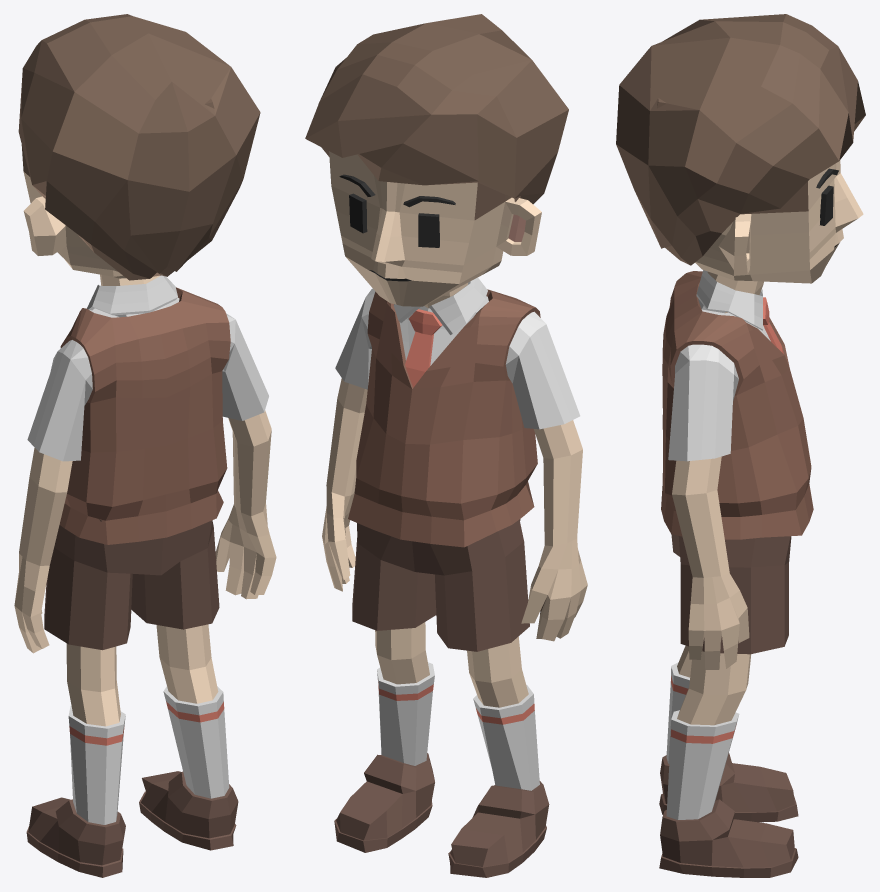
Rendered from HumanFinish (3).fbx.
3 views of the same model, side by side, from view 1: azimuth 30°, elevation 25°; view 2: azimuth 150°, elevation 25°; view 3: azimuth 270°, elevation 25° (orthographic).
Visible parts, largest first — view 1: Human; view 2: Human; view 3: Human.
Part boxes in pixels (<box>): Human: <box>14,14,276,877</box>; Human: <box>305,14,587,877</box>; Human: <box>616,14,865,877</box>.
Bounding box in the file's own units: 133 × 410 × 115.
